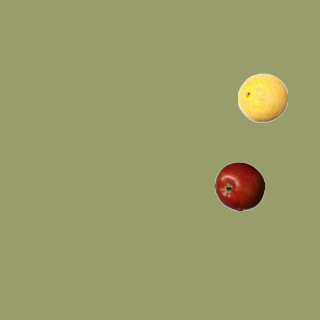Apple Braeburn: (214, 161, 264, 211)
Cantaloupe 1: (237, 72, 287, 122)
